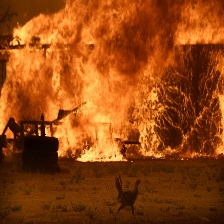fire: (4, 1, 224, 158)
